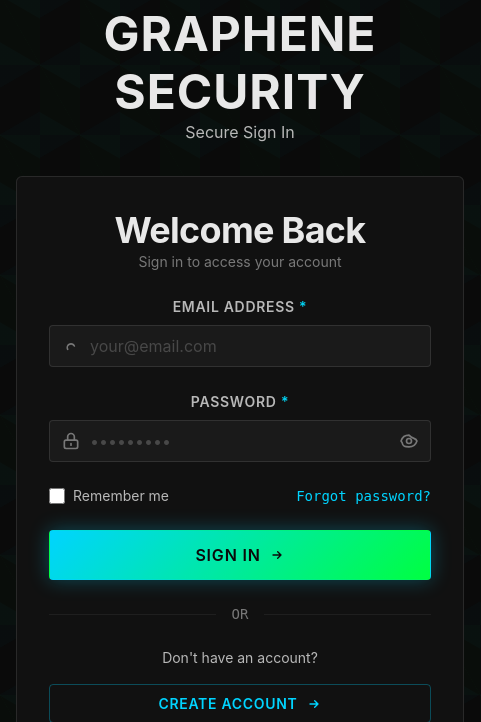
LoginPage › Form Submission › should clear general error when user starts typing
# Submit form to trigger error
Type "john.doe@example.com" into the field labelled "Email Address *" at (240, 346), box [49,325,431,367]
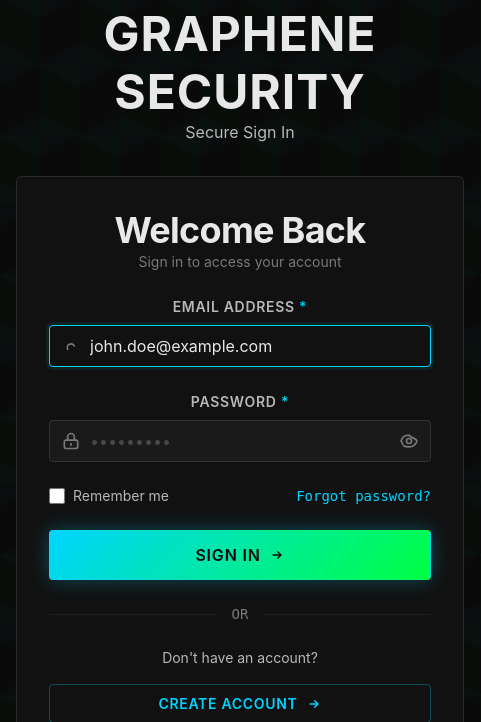
Type "wrong-password" into the password field labelled "Password *" at (240, 441), box [49,420,431,462]
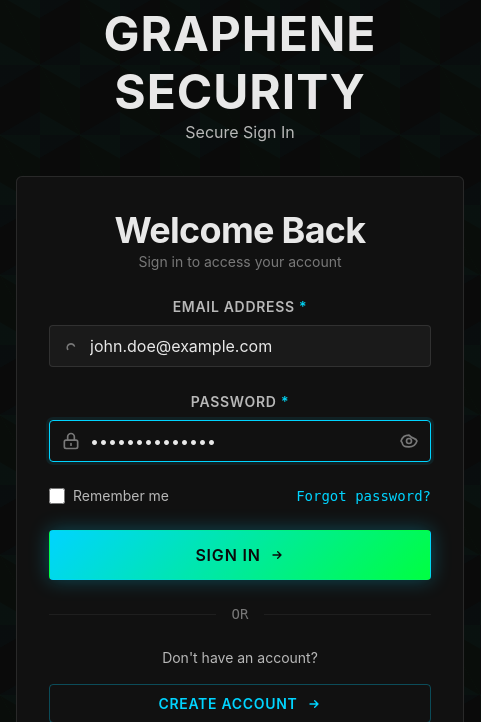
Click the button "Sign In" at (240, 555), box [49,530,431,580]
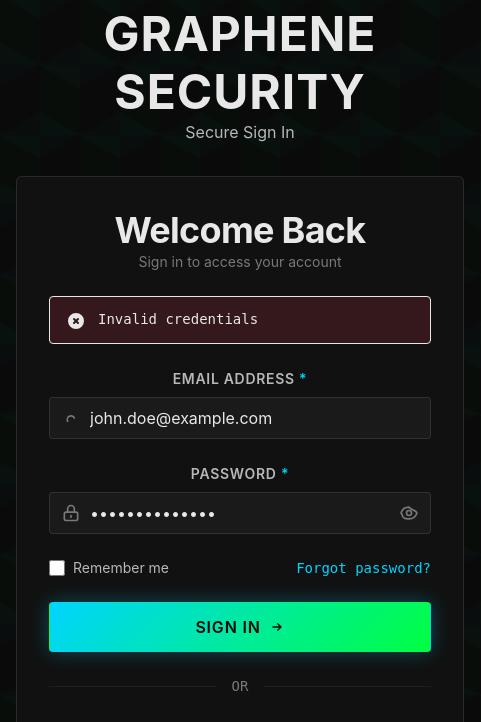
Now the text "Invalid credentials" is shown, box [98,309,258,329]
# Start typing - error should clear
Type "!" into the password field labelled "Password *" at (240, 513), box [49,492,431,534]
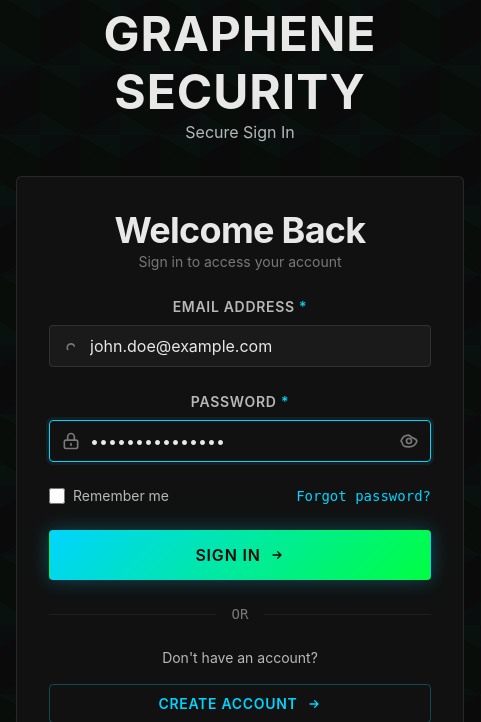
Now the text "Invalid credentials" is gone
